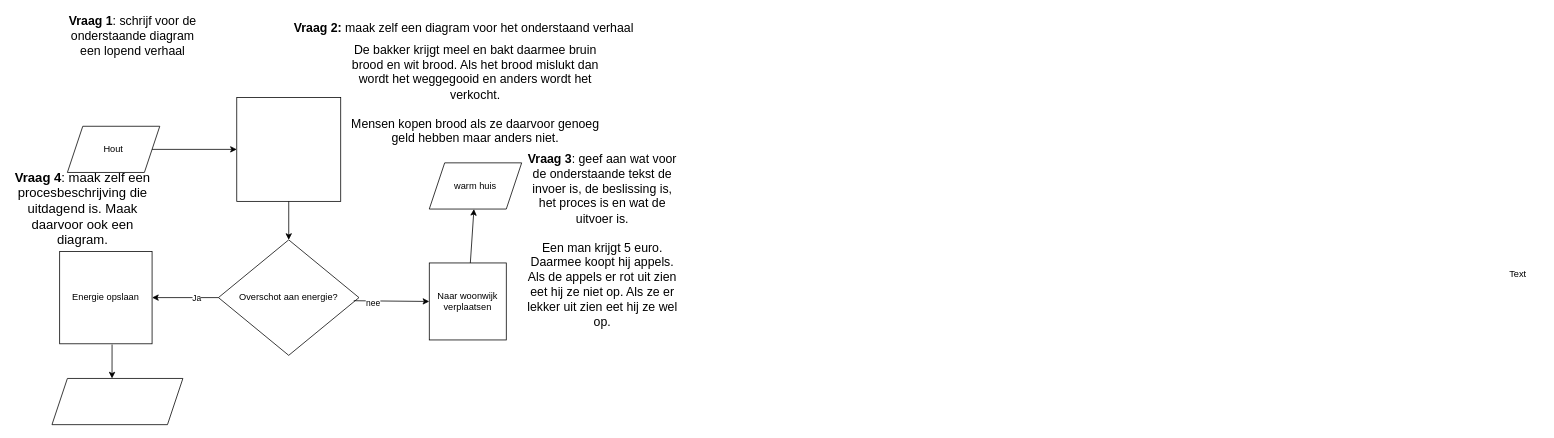
Some shapes in this 1554 by 438 pixel diagram are drawn without their labels. The centre of each missing label's shape, as x and y in pixels:
Opgeslagen energie: [117,401]
Verbanding voor energie in kolencentrale: [288,149]
